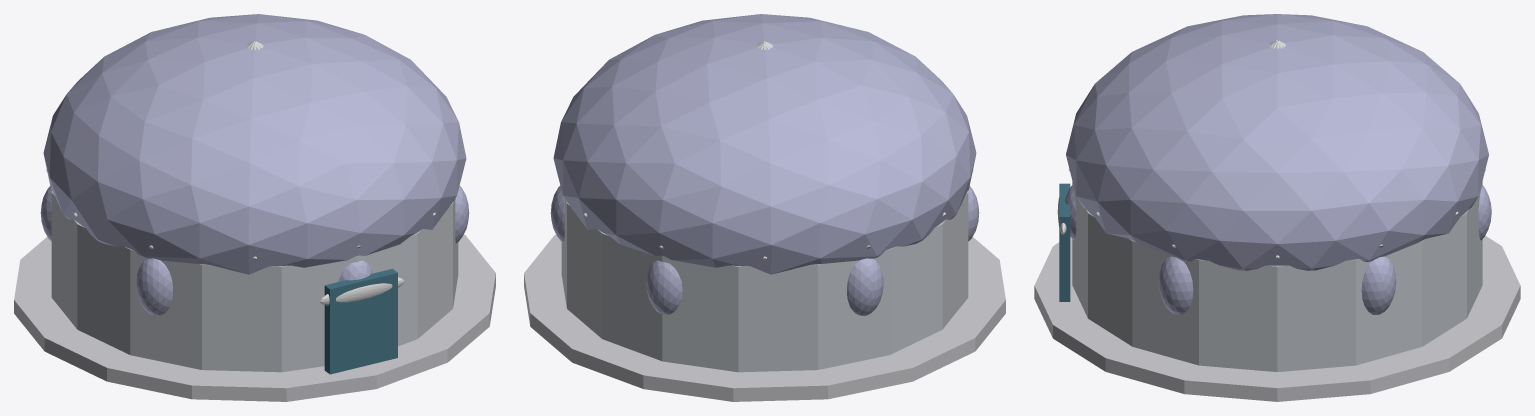
Rendered from galaxy-dome.glb.
3 renders of one model, left to right at view 1: azimuth 30°, elevation 25°; view 2: azimuth 150°, elevation 25°; view 3: azimuth 270°, elevation 25°, orthographic.
Visible parts, largest first — view 1: DomeShell_3, Building_2, Base_1, Entrance_94, Pavilion_20, PortalRing_95, Pavilion_8, Pavilion_5, Pavilion_17; view 2: DomeShell_3, Building_2, Base_1, Pavilion_17, Pavilion_14, Pavilion_11, Pavilion_20; view 3: DomeShell_3, Building_2, Base_1, Pavilion_8, Pavilion_11, Entrance_94, Pavilion_14.
Part boxes in pixels (<box>): DomeShell_3: <box>43,14,466,274</box>; Building_2: <box>51,191,458,372</box>; Base_1: <box>14,234,495,401</box>; Entrance_94: <box>324,269,397,374</box>; Pavilion_20: <box>136,258,172,315</box>; PortalRing_95: <box>319,277,404,305</box>; Pavilion_8: <box>455,186,469,243</box>; Pavilion_5: <box>338,260,372,281</box>; Pavilion_17: <box>40,186,51,241</box>; DomeShell_3: <box>553,14,976,274</box>; Building_2: <box>561,191,968,372</box>; Base_1: <box>524,234,1005,401</box>; Pavilion_17: <box>847,258,883,315</box>; Pavilion_14: <box>646,260,682,314</box>; Pavilion_11: <box>550,186,564,243</box>; Pavilion_20: <box>968,186,979,241</box>; DomeShell_3: <box>1066,14,1488,270</box>; Building_2: <box>1072,181,1482,371</box>; Base_1: <box>1034,236,1520,401</box>; Pavilion_8: <box>1158,256,1193,314</box>; Pavilion_11: <box>1361,256,1396,314</box>; Entrance_94: <box>1059,183,1070,301</box>; Pavilion_14: <box>1478,185,1491,240</box>.
Bounding box in the file's own units: 9.6 × 5.64 × 9.6.
